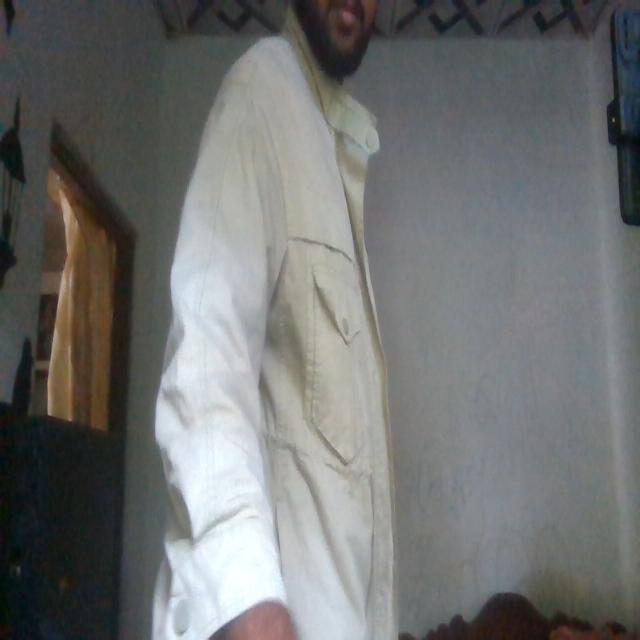Jacket_Wearer: (170, 26, 400, 640)
Person: (164, 0, 417, 640)
